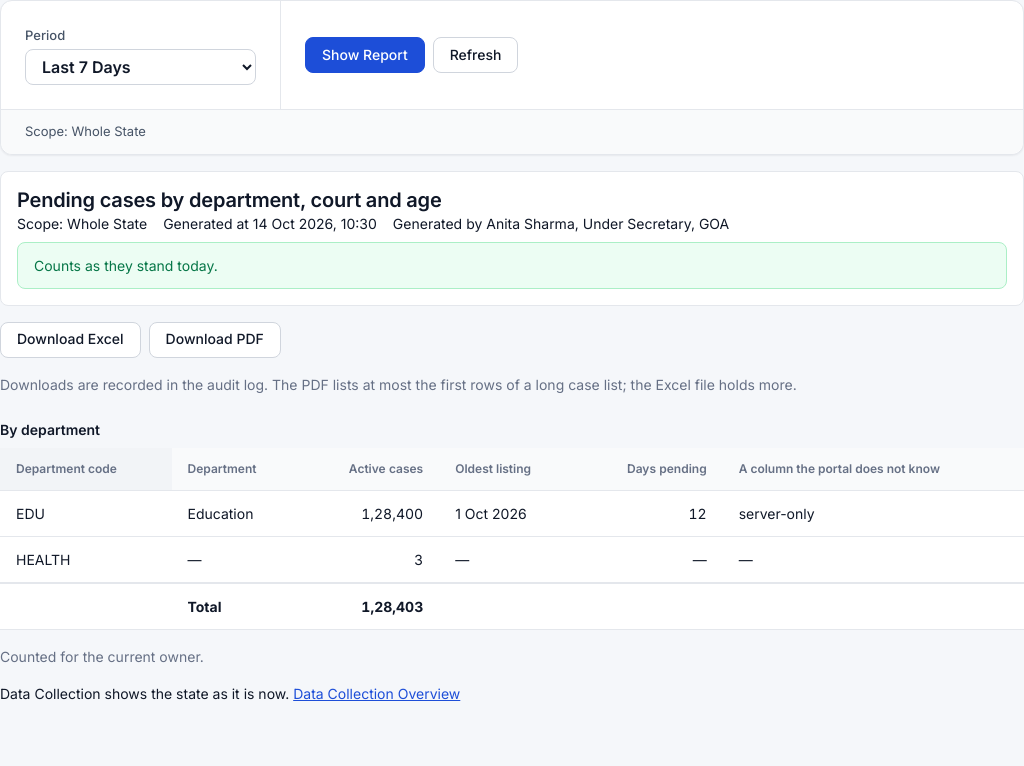
Test: the period › Choose dates checks the order in the browser and sends nothing for a bad pair
This screenshot has width=1024, height=766.
Select "Choose Dates" in the dropdown labelled "Period" at coordinates (140, 67), box [25,49,256,85]
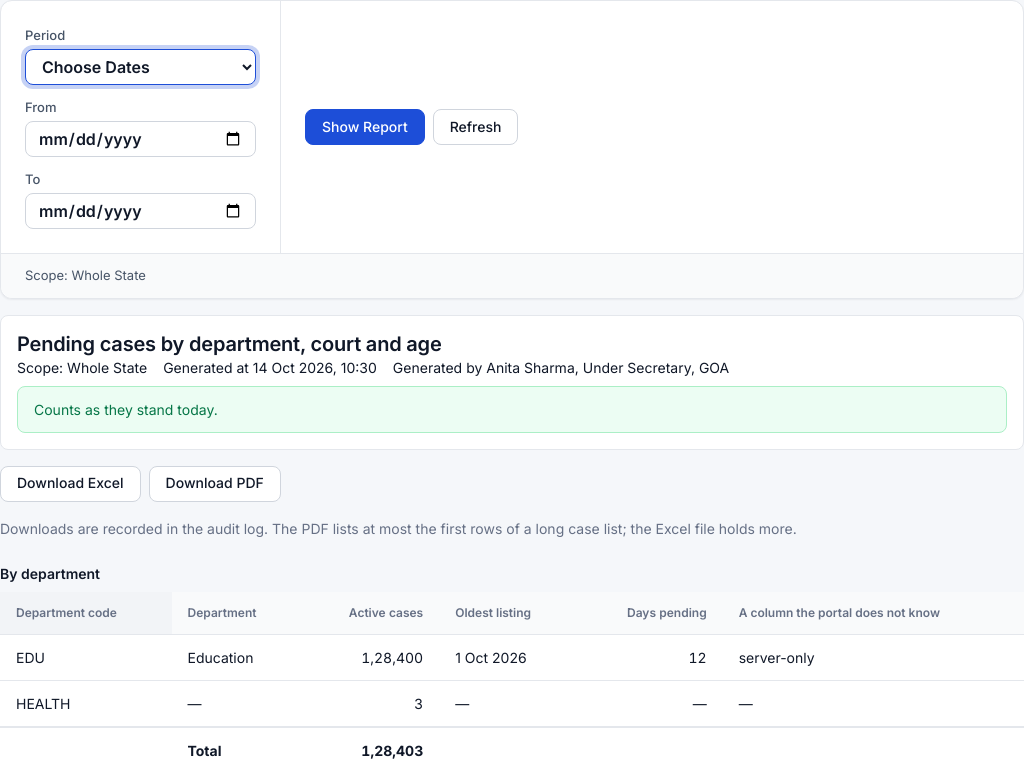
Type "2026-10-05" into the date field labelled "From" at coordinates (140, 139), box [25,121,256,157]
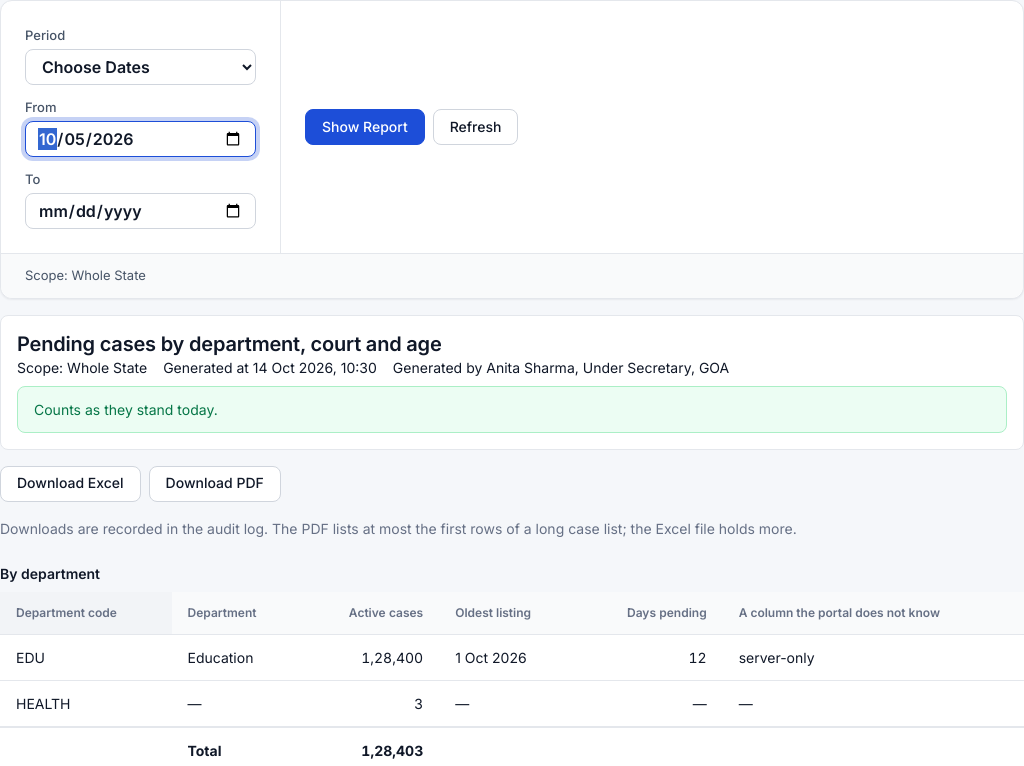
Type "2026-10-01" into the date field labelled "To" at coordinates (140, 211), box [25,193,256,229]
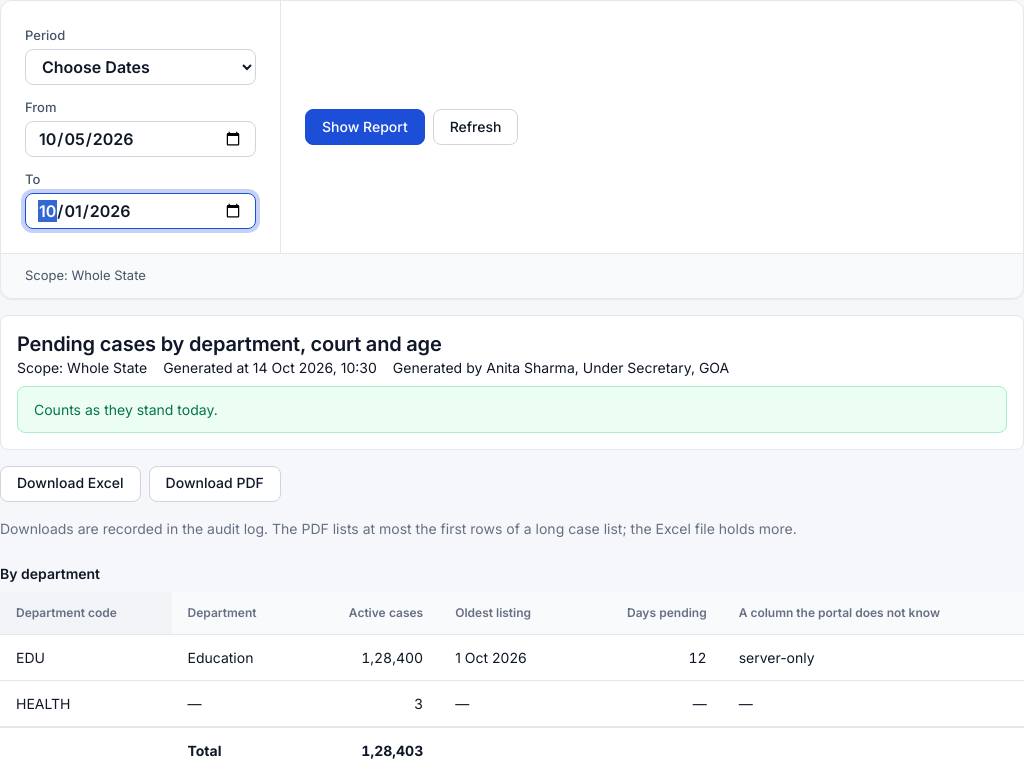
Click the button "Show Report" at coordinates (365, 127), box [305,109,425,145]
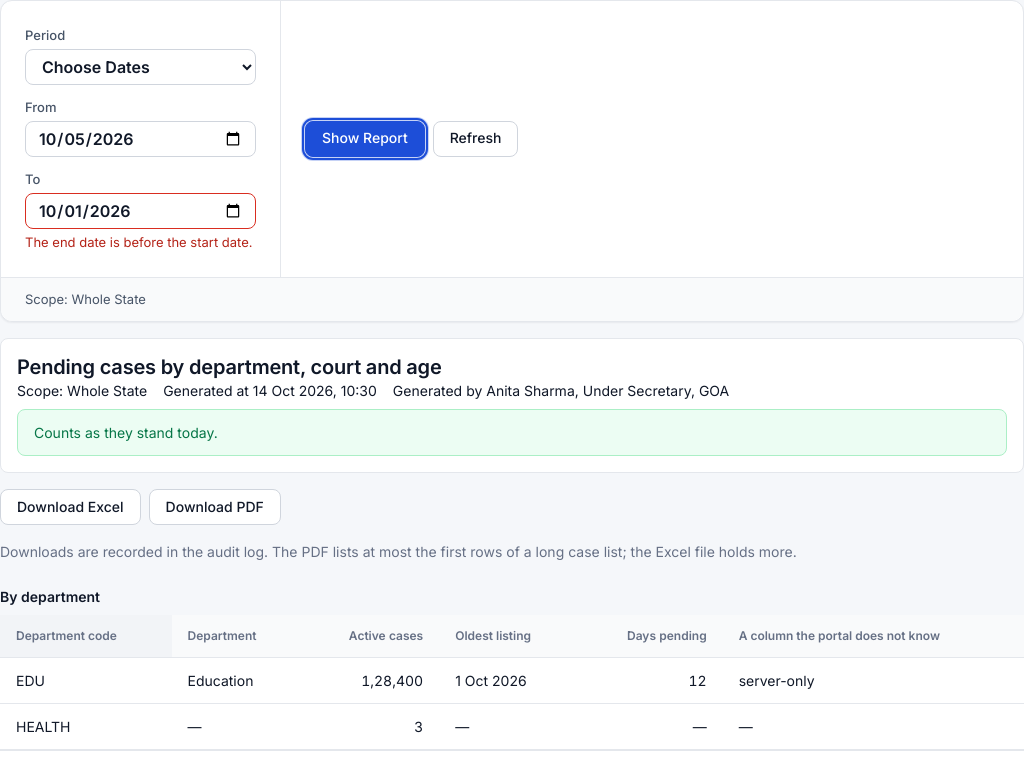
Check: the text "The end date is before the start date." is shown, box [25,233,256,252]
